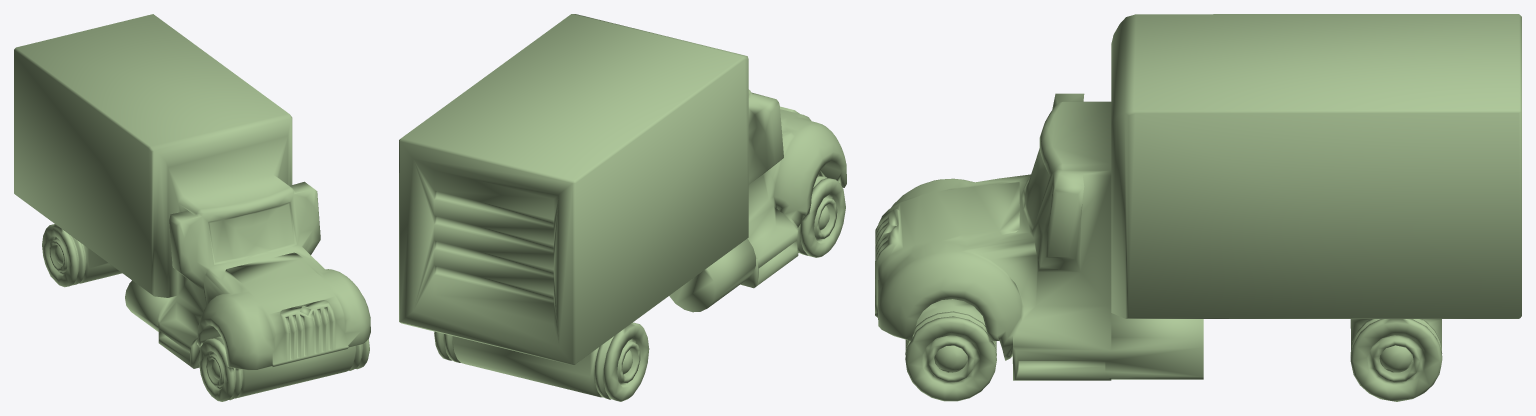
3 views of the same model, side by side, from view 1: azimuth 30°, elevation 25°; view 2: azimuth 150°, elevation 25°; view 3: azimuth 270°, elevation 25° (orthographic). The views are drawn at different scales.
Parts seen in each view (by area): view 1: body; view 2: body; view 3: body.
Part boxes in pixels (x1,y1,x2,y2): body: [14, 14, 370, 401]; body: [399, 14, 846, 401]; body: [875, 14, 1521, 401].
Bounding box in the file's own units: 1.97 × 2.75 × 5.5.
